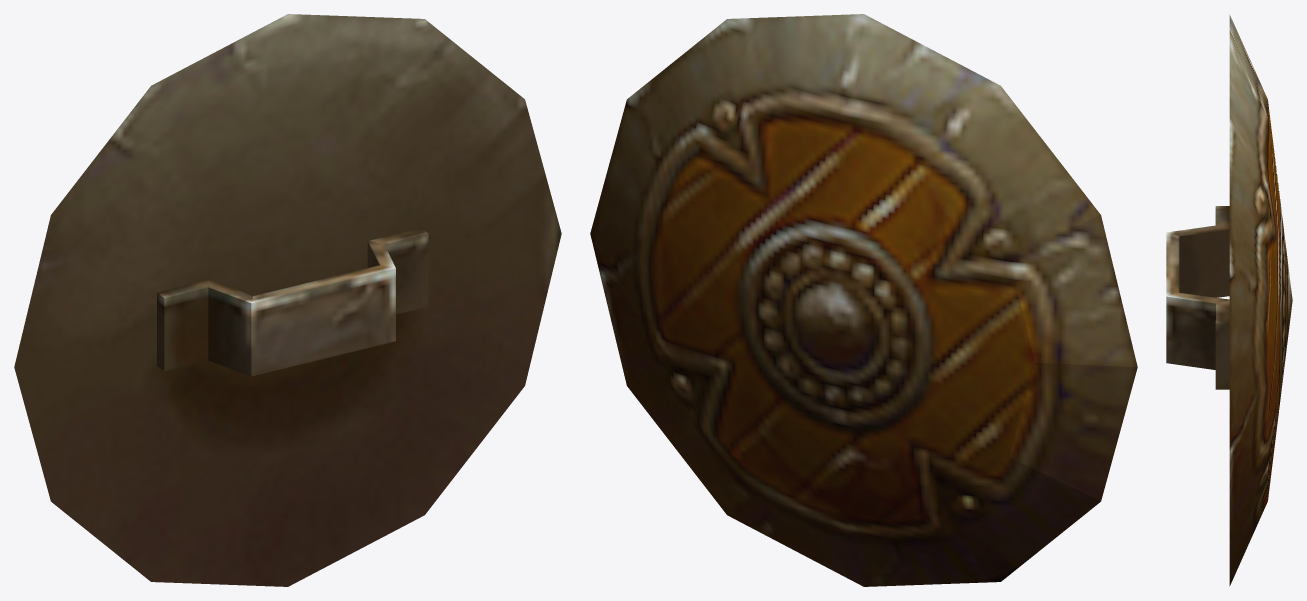
The model's file is Stage_ShaMo_WuQi015.FBX.
The picture shows the model from 3 angles, left to right: view 1: azimuth 30°, elevation 25°; view 2: azimuth 150°, elevation 25°; view 3: azimuth 270°, elevation 25°; orthographic projection. The views are drawn at different scales.
Parts seen in each view (by area): view 1: Stage_ShaMo_WuQi015; view 2: Stage_ShaMo_WuQi015; view 3: Stage_ShaMo_WuQi015.
Part boxes in pixels (x1=…): Stage_ShaMo_WuQi015: x1=14, y1=14, x2=561, y2=586; Stage_ShaMo_WuQi015: x1=590, y1=14, x2=1137, y2=586; Stage_ShaMo_WuQi015: x1=1166, y1=14, x2=1292, y2=586.
Size of the model in its own units: 78.49 by 78.49 by 17.24.
